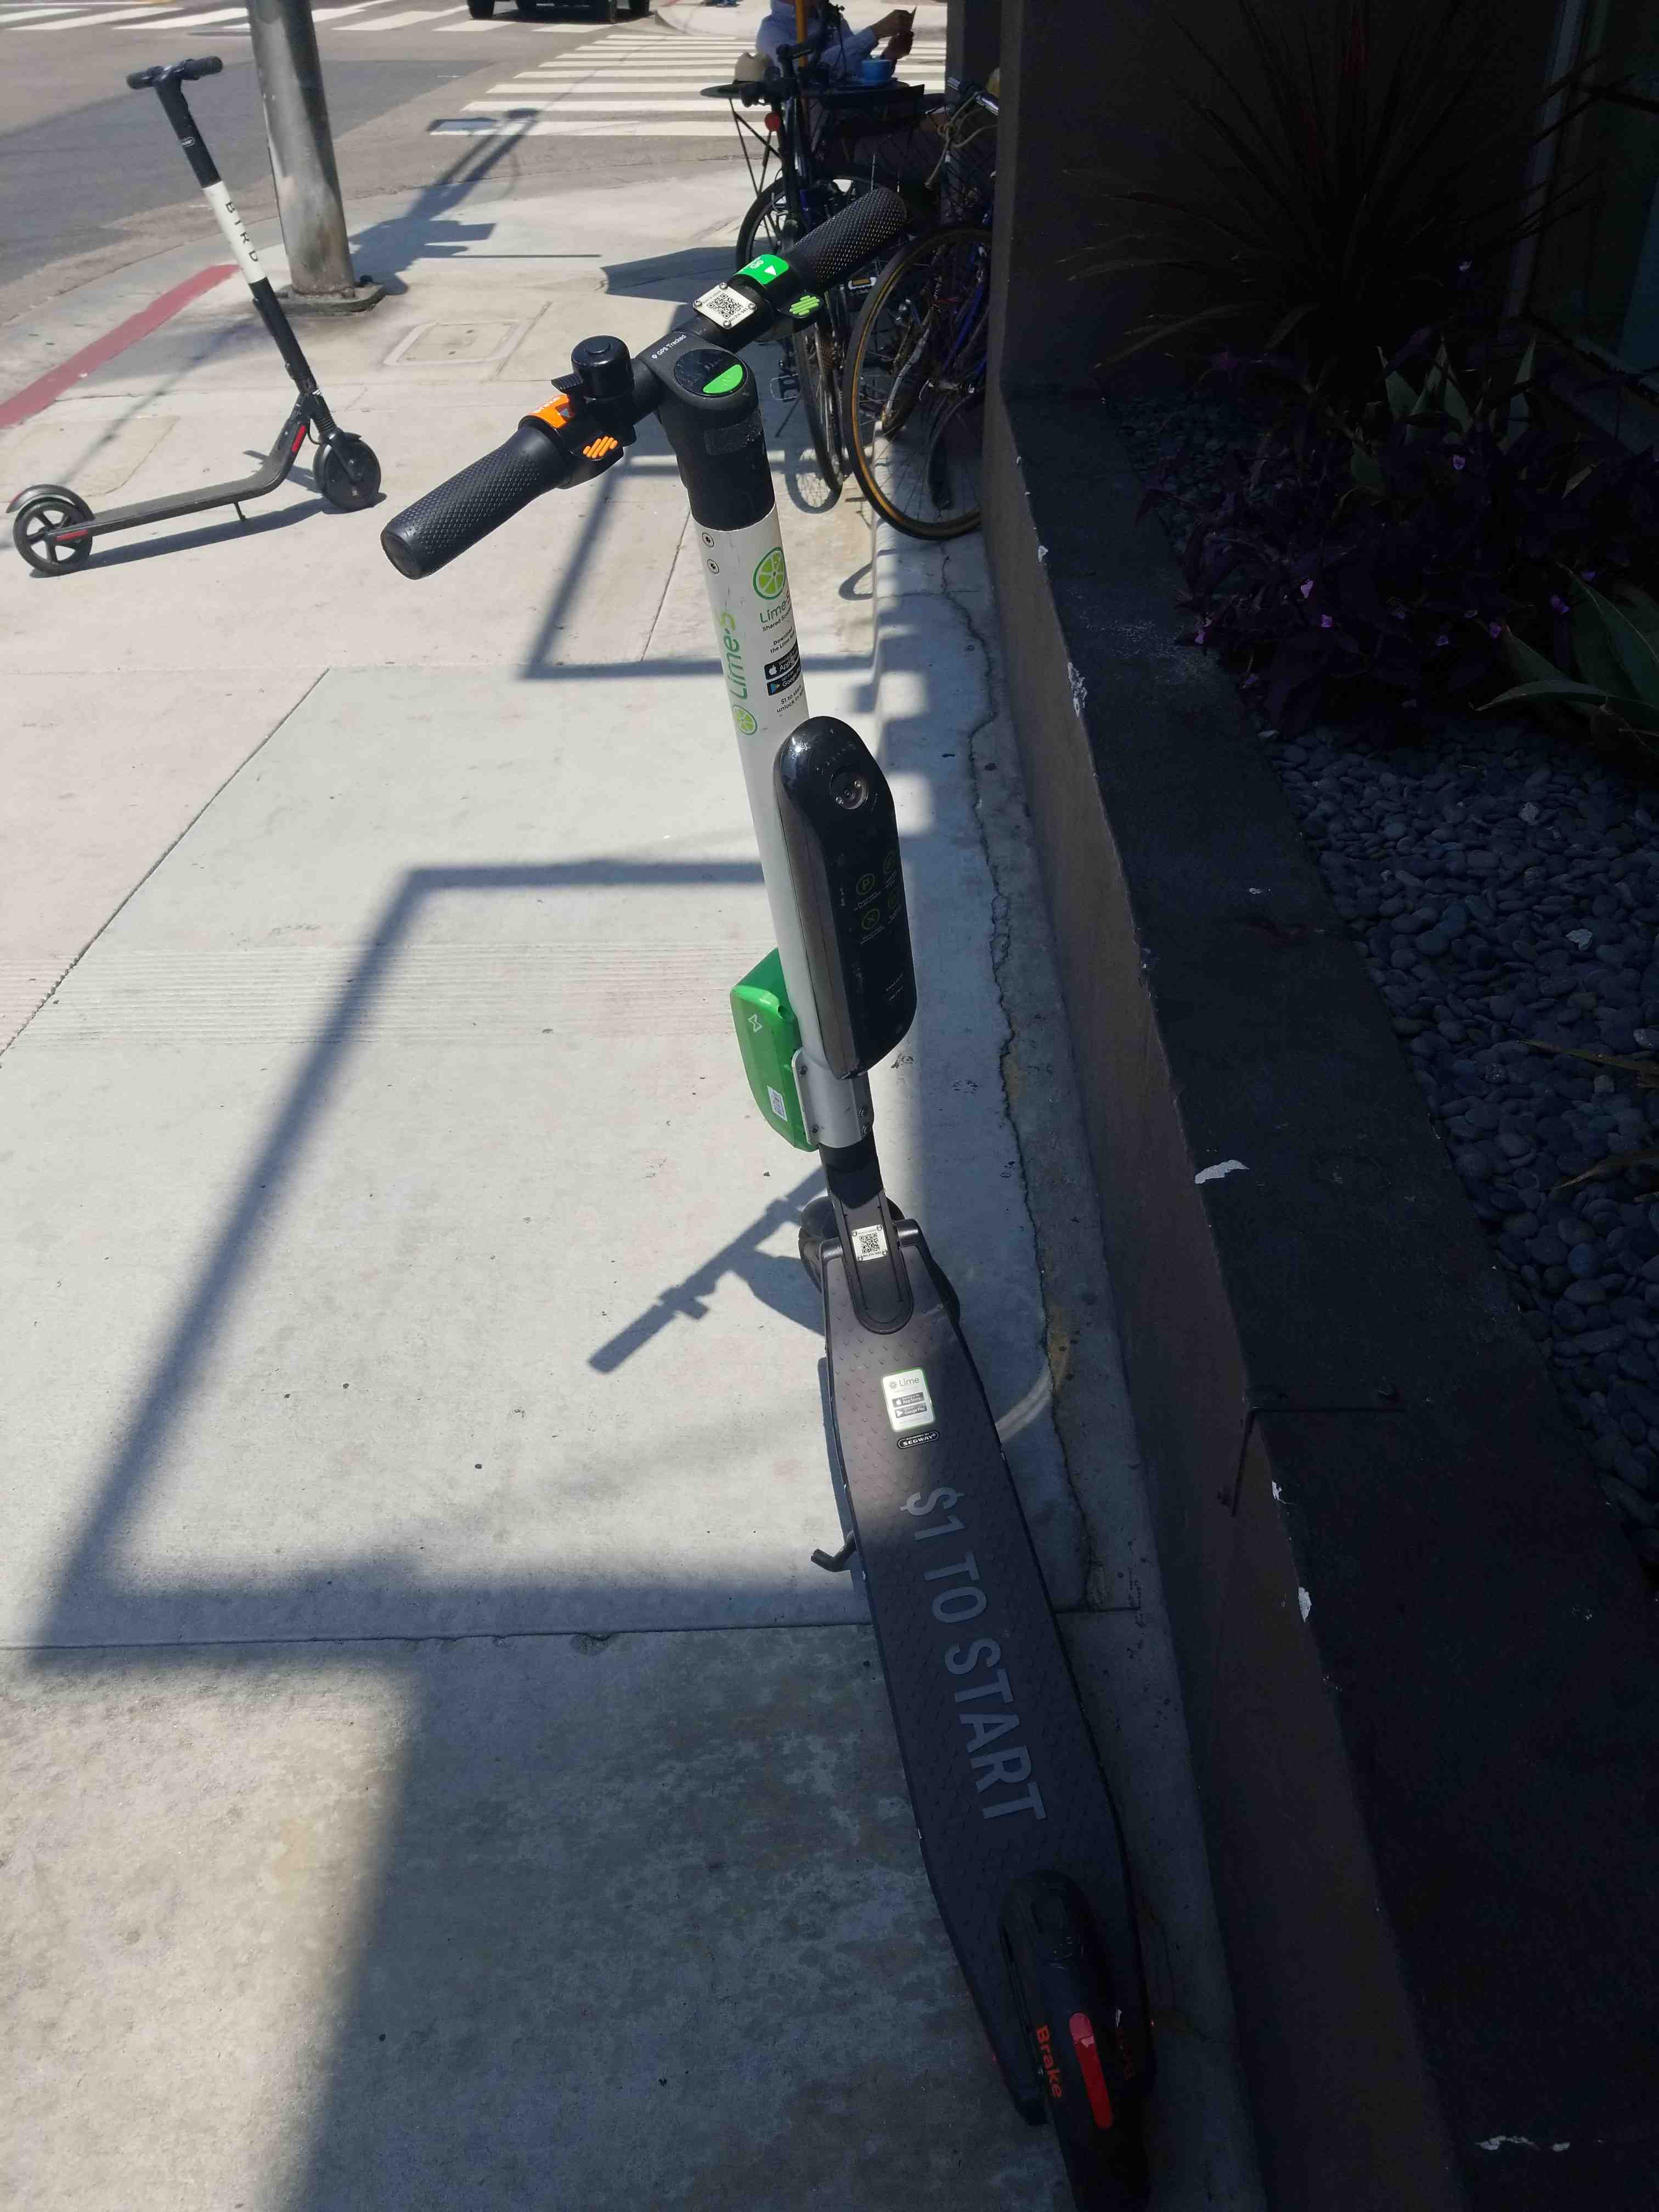scooter: (310, 78, 1316, 2212)
